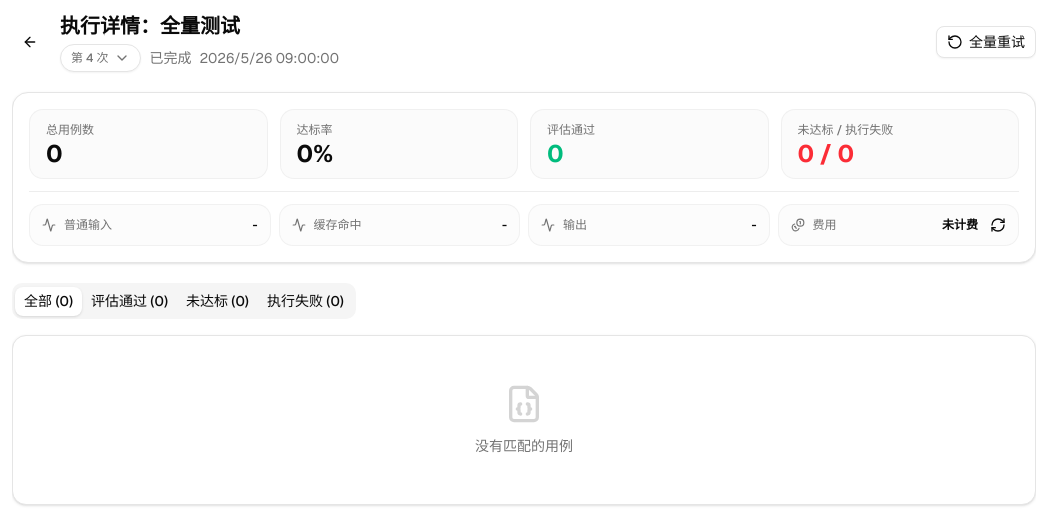
Test: AppHistoryDetail › keeps readable task name and selected version after recalculating cost
Expected: the heading "执行详情：全量测试" is shown, [60,13,240,39]
Click the button named "重新计算费用" at coordinates (998, 225), box [986,213,1010,237]
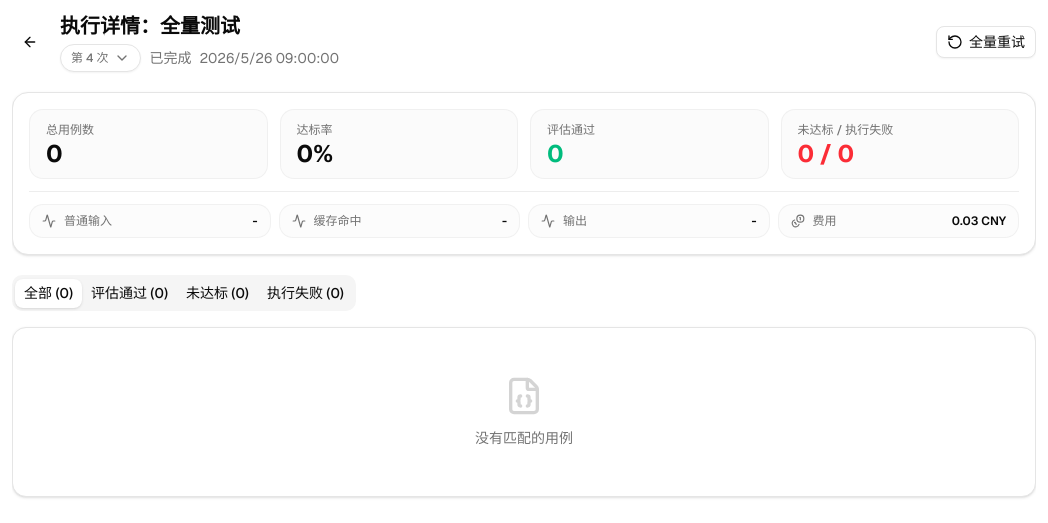
Expected: the heading "执行详情：全量测试" is shown, [60,13,240,39]
Result: the text "0.03 CNY" is shown at [952,213,1006,229]
